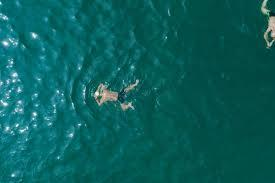swimmer: (94, 81, 144, 115), (256, 0, 275, 54)
